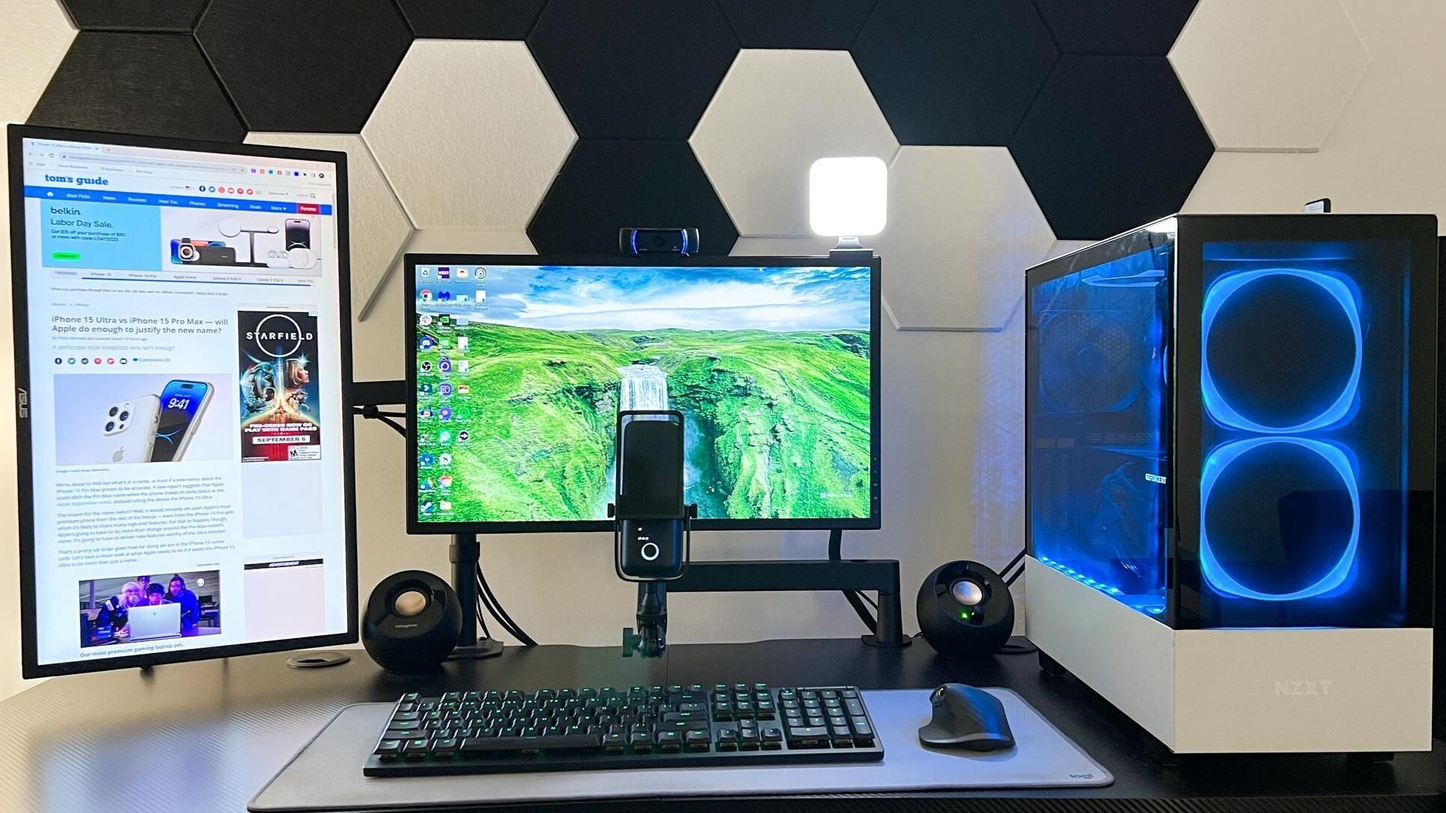keyboard: (342, 652, 902, 801)
light: (797, 142, 902, 256)
mic: (603, 390, 702, 612)
monitor: (0, 117, 369, 691), (392, 245, 896, 540)
mouse: (908, 666, 1028, 771)
pc: (997, 192, 1446, 772)
speaker: (348, 544, 473, 682), (900, 538, 1026, 667)
webcam: (591, 216, 737, 273)
